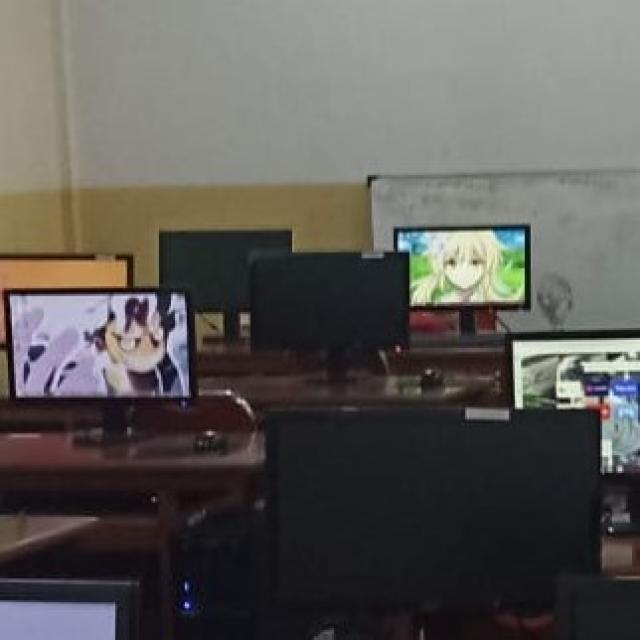offscreen: (268, 408, 600, 604), (252, 254, 406, 348), (160, 231, 291, 311)
onscreen: (8, 292, 190, 397), (513, 331, 640, 473), (1, 254, 132, 344), (395, 225, 528, 308)
